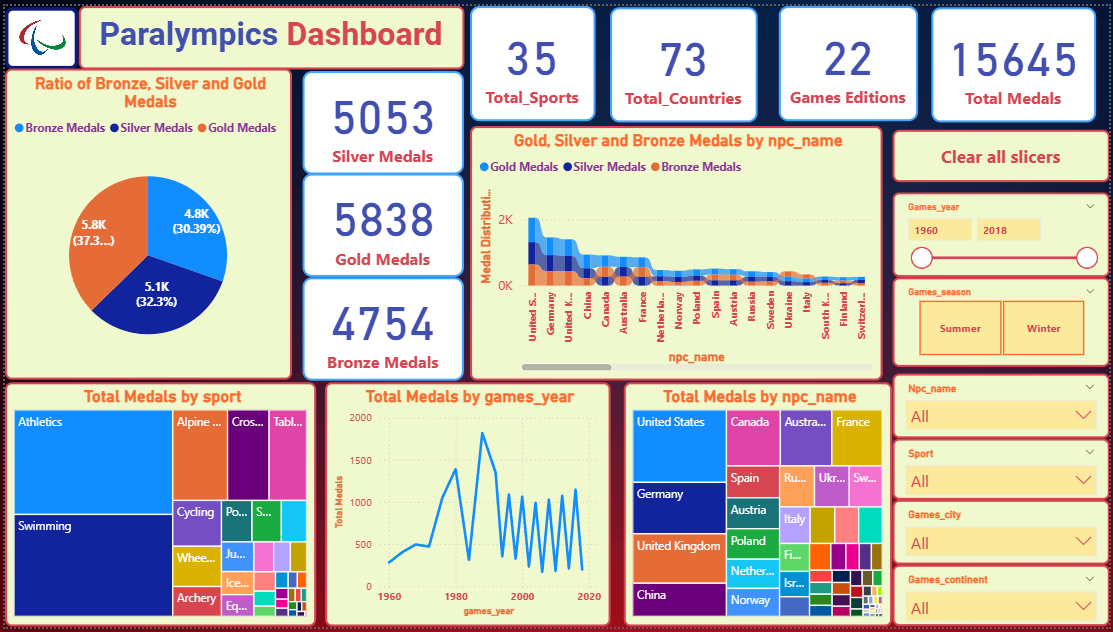

The dashboard page shown, as its layout file describes it:
{"tool":"powerbi","page":{"name":"Page 1","canvas":[1280,720],"ordinal":0},"visuals":[{"type":"textbox","box":[84.8,0,446.8,73.4],"z":0},{"type":"image","box":[0,1.3,84.8,72.2],"z":1000},{"type":"card","fields":{"Values":["Paralymics.Total Medals"]},"box":[1074.1,1.3,191.4,133.4],"z":2000},{"type":"card","fields":{"Values":["Paralymics.Bronze Medals"]},"box":[345,314,187.3,119.9],"z":3000},{"type":"card","fields":{"Values":["Paralymics.Gold Medals"]},"box":[345,194.1,187.3,119.9],"z":4000},{"type":"card","fields":{"Values":["Paralymics.Silver Medals"]},"box":[345,75.5,187.3,119.9],"z":5000},{"type":"card","fields":{"Values":["Paralymics.Total_Sports"]},"box":[539.1,0,145.5,133.4],"z":6000},{"type":"card","fields":{"Values":["Paralymics.Total_Countries"]},"box":[702.1,1.3,171.2,133.4],"z":7000},{"type":"card","fields":{"Values":["Paralymics.Games Editions"]},"box":[897.5,0,161.7,133.4],"z":8000},{"type":"pieChart","title":"Ratio of Bronze, Silver and Gold Medals","fields":{"Y":["Paralymics.Bronze Medals","Paralymics.Silver Medals","Paralymics.Gold Medals"]},"box":[0,72.8,332.9,361.2],"z":9000},{"type":"ribbonChart","title":"Gold, Silver and Bronze Medals by npc_name","fields":{"Category":["Paralymics.npc_name"],"Y":["Paralymics.Gold Medals","Paralymics.Silver Medals","Paralymics.Bronze Medals"]},"box":[539.1,138.8,478.4,295.1],"z":10000},{"type":"treemap","fields":{"Values":["Paralymics.Total Medals"],"Group":["Paralymics.npc_name"]},"box":[717,436.6,311.3,283],"z":11000},{"type":"treemap","fields":{"Values":["Paralymics.Total Medals"],"Group":["Paralymics.sport"]},"box":[0,436.6,361.2,283],"z":12000},{"type":"slicer","fields":{"Values":["Paralymics.sport"]},"box":[1028.3,501.3,252,71.4],"z":13000},{"type":"slicer","fields":{"Values":["Paralymics.npc_name"]},"box":[1028.3,425.9,252,75.5],"z":14000},{"type":"slicer","fields":{"Values":["Paralymics.games_city"]},"box":[1028.3,572.8,252,75.5],"z":15000},{"type":"slicer","fields":{"Values":["Paralymics.games_year"]},"box":[1028.3,215.6,252,98.4],"z":16000},{"type":"slicer","fields":{"Values":["Paralymics.games_season"]},"box":[1028.3,314,252,103.8],"z":17000},{"type":"slicer","fields":{"Values":["Paralymics.games_continent"]},"box":[1028.3,648.2,252,71.4],"z":18000},{"type":"actionButton","box":[1028.3,144.2,252,60.6],"z":19000},{"type":"lineChart","fields":{"Y":["Paralymics.Total Medals"],"Category":["Paralymics.games_year"]},"box":[370.6,436.6,331.5,283],"z":20000}]}

Visuals, with their boxes in screenshot pixels (x1, y1, x2, y2), scaled from the page's 1280x720 canvas onto the 1113x632 screenshot:
textbox: crop(74, 0, 462, 64)
image: crop(0, 1, 74, 65)
card - Paralymics.Total Medals: crop(934, 1, 1100, 118)
card - Paralymics.Bronze Medals: crop(300, 276, 463, 381)
card - Paralymics.Gold Medals: crop(300, 170, 463, 276)
card - Paralymics.Silver Medals: crop(300, 66, 463, 172)
card - Paralymics.Total_Sports: crop(469, 0, 595, 117)
card - Paralymics.Total_Countries: crop(610, 1, 759, 118)
card - Paralymics.Games Editions: crop(780, 0, 921, 117)
"Ratio of Bronze, Silver and Gold Medals" pieChart: crop(0, 64, 289, 381)
"Gold, Silver and Bronze Medals by npc_name" ribbonChart: crop(469, 122, 885, 381)
treemap - Paralymics.Total Medals x Paralymics.npc_name: crop(623, 383, 894, 631)
treemap - Paralymics.Total Medals x Paralymics.sport: crop(0, 383, 314, 631)
slicer - Paralymics.sport: crop(894, 440, 1112, 503)
slicer - Paralymics.npc_name: crop(894, 374, 1112, 440)
slicer - Paralymics.games_city: crop(894, 503, 1112, 569)
slicer - Paralymics.games_year: crop(894, 189, 1112, 276)
slicer - Paralymics.games_season: crop(894, 276, 1112, 367)
slicer - Paralymics.games_continent: crop(894, 569, 1112, 631)
actionButton: crop(894, 127, 1112, 180)
lineChart - Paralymics.Total Medals x Paralymics.games_year: crop(322, 383, 610, 631)
